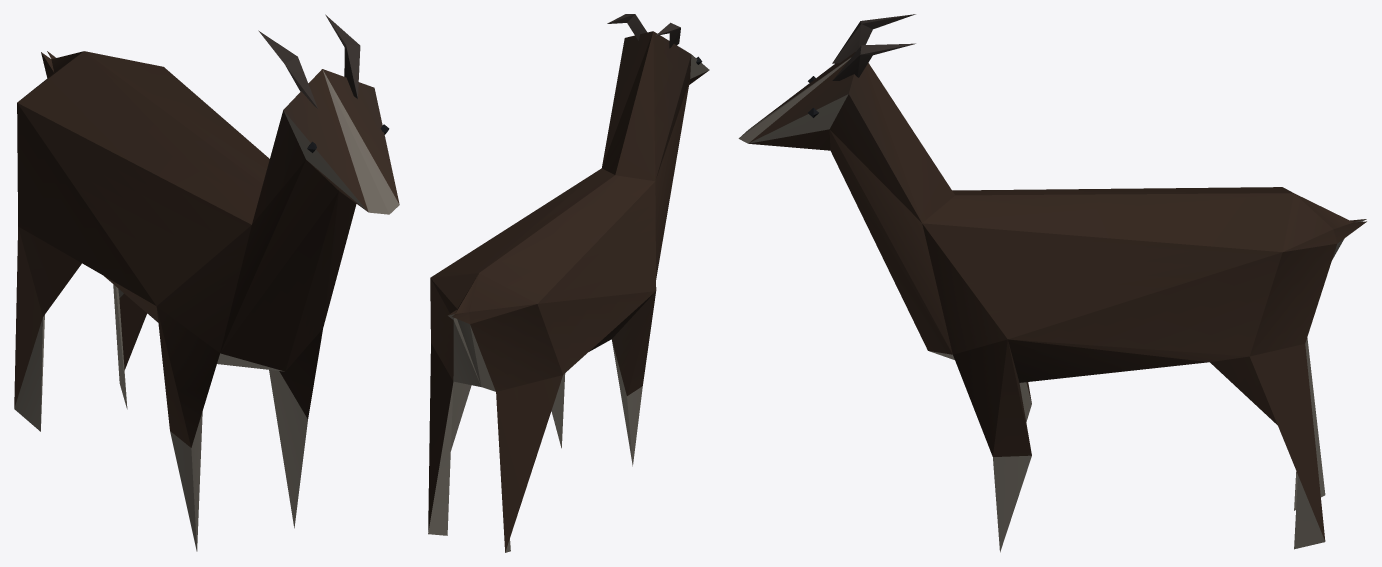
File: goat_lod2.glb
The picture shows the model from 3 angles, left to right: view 1: azimuth 30°, elevation 25°; view 2: azimuth 150°, elevation 25°; view 3: azimuth 270°, elevation 25°; orthographic projection. The views are drawn at different scales.
Visible parts, largest first — view 1: goat; view 2: goat; view 3: goat.
Part boxes in pixels (x1,y1,x2,y2): goat: (14,14,399,551); goat: (428,14,709,552); goat: (738,14,1366,552).
Size of the model in its own units: 0.4207 by 1.23 by 1.39.
